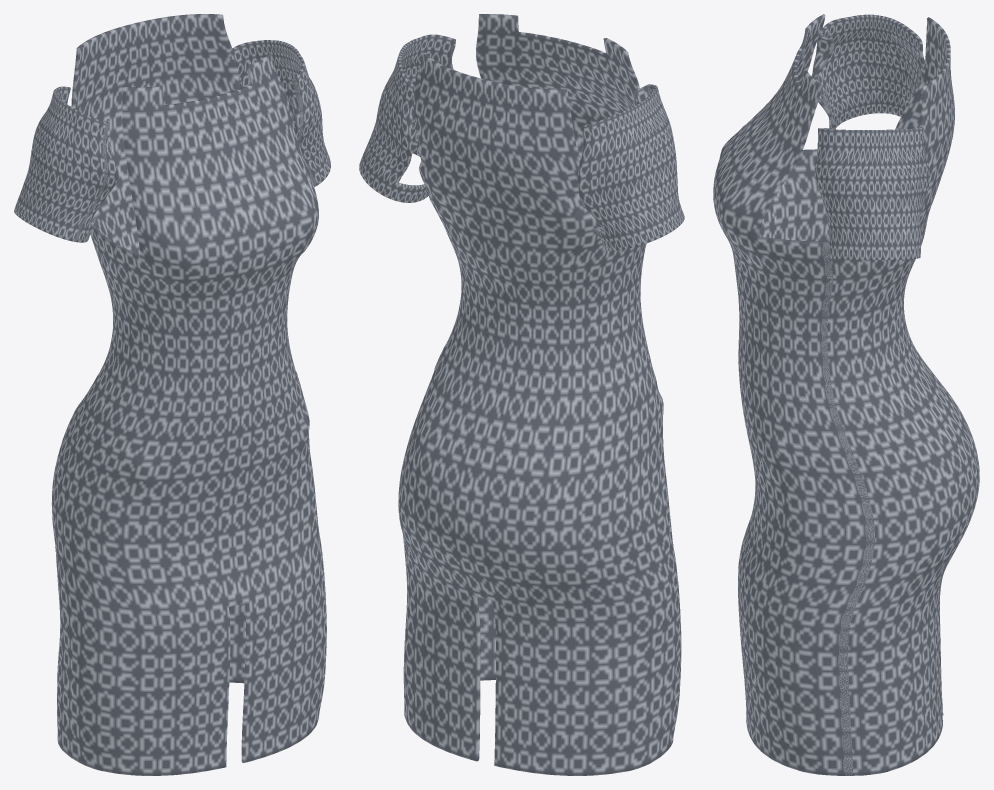
The model's file is _fixture_armor_suozi.glb.
3 renders of one model, left to right at view 1: azimuth 30°, elevation 25°; view 2: azimuth 150°, elevation 25°; view 3: azimuth 270°, elevation 25°, orthographic. The views are drawn at different scales.
Parts seen in each view (by area): view 1: _fixture_armor_suozi; view 2: _fixture_armor_suozi; view 3: _fixture_armor_suozi.
Boxes of the visible parts, x1,y1,x2,y2 form: _fixture_armor_suozi: (14, 14, 330, 775); _fixture_armor_suozi: (359, 14, 684, 775); _fixture_armor_suozi: (713, 14, 979, 775).
Bounding box in the file's own units: 0.2545 × 0.5385 × 0.1949.
1 material, 1 textured.
